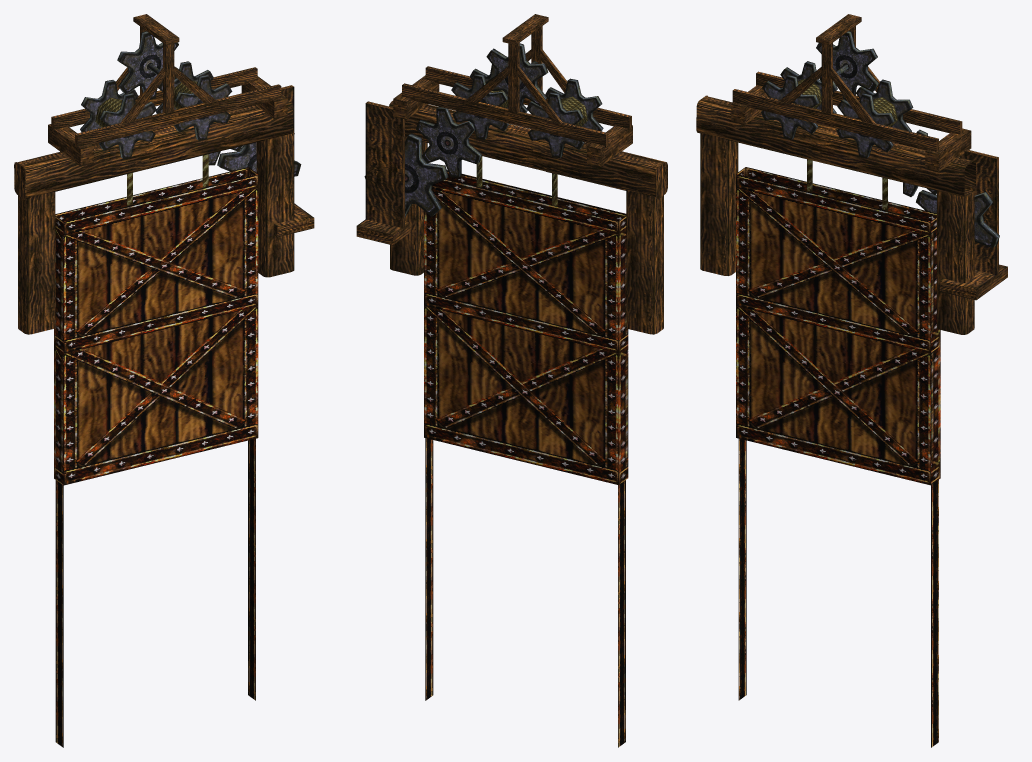
File: INST_OH_EXITPORT.fbx
3 renders of one model, left to right at view 1: azimuth 30°, elevation 25°; view 2: azimuth 150°, elevation 25°; view 3: azimuth 330°, elevation 25°, orthographic.
Visible parts, largest first — view 1: INST_OH_EXITPORT; view 2: INST_OH_EXITPORT; view 3: INST_OH_EXITPORT.
Boxes of the visible parts, x1,y1,x2,y2 form: INST_OH_EXITPORT: (14,14,314,747); INST_OH_EXITPORT: (356,14,667,747); INST_OH_EXITPORT: (696,14,1007,747).
Bounding box in the file's own units: 37805 × 82337 × 8125.
Materials: 7 (7 with a texture image).
